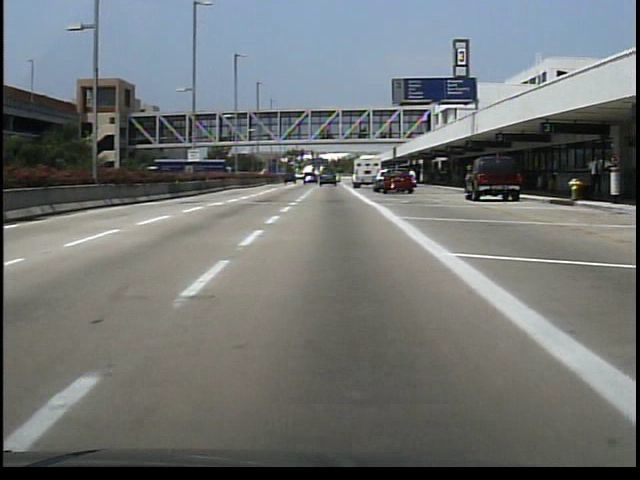person: (579, 152, 604, 202), (405, 169, 420, 192)
